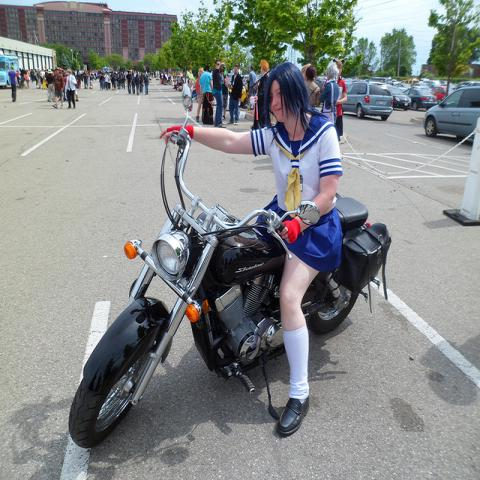car: (422, 88, 480, 141), (342, 82, 394, 122), (403, 87, 437, 111), (389, 88, 412, 108), (431, 86, 454, 100), (454, 81, 480, 90), (392, 83, 410, 92), (401, 78, 419, 86)
motorcycle: (60, 130, 394, 460), (228, 84, 250, 109), (184, 96, 192, 110), (21, 78, 31, 88)
truck: (342, 82, 394, 121)
